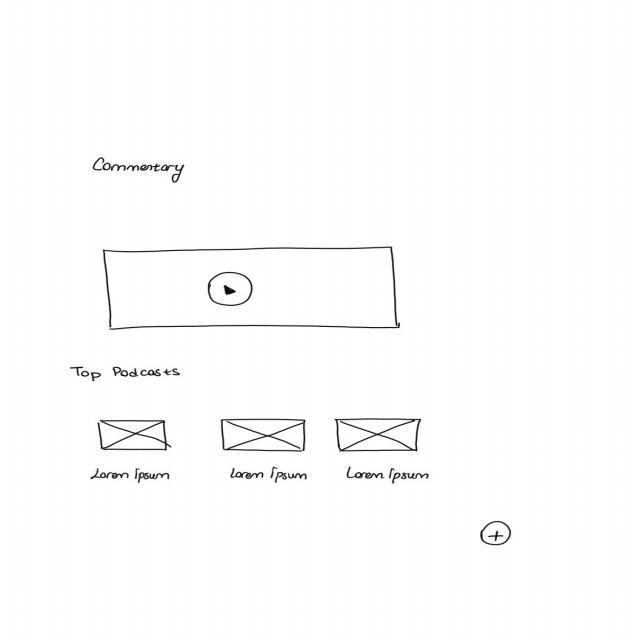icon-button: (480, 521, 513, 547)
image: (334, 417, 423, 456), (219, 418, 309, 456), (95, 419, 171, 453)
label: (90, 157, 188, 184), (70, 366, 185, 383), (342, 466, 432, 486), (228, 466, 311, 484), (91, 468, 174, 485)
